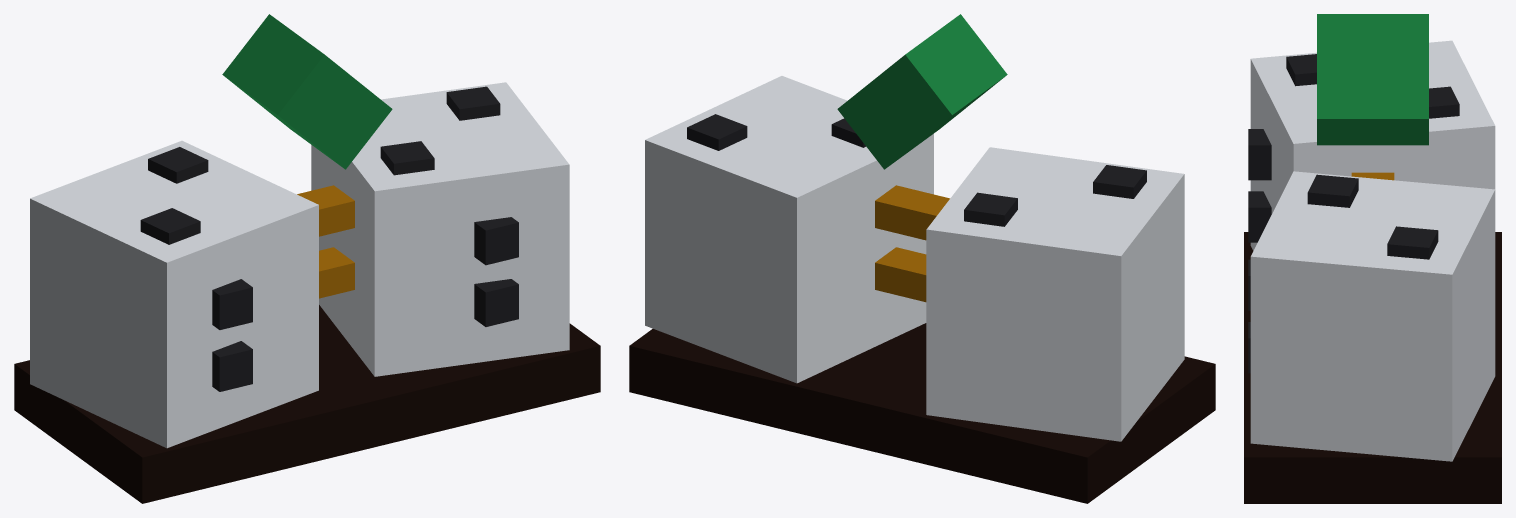
Rendered from BonusPar_low.fbx.
3 renders of one model, left to right at view 1: azimuth 30°, elevation 25°; view 2: azimuth 150°, elevation 25°; view 3: azimuth 270°, elevation 25°, orthographic.
Visible parts, largest first — view 1: BonusPar_low; view 2: BonusPar_low; view 3: BonusPar_low.
Boxes of the visible parts, left/top/right/bottom form: BonusPar_low: left=14, top=14, right=600, bottom=503; BonusPar_low: left=629, top=14, right=1215, bottom=503; BonusPar_low: left=1244, top=14, right=1501, bottom=503.
Size of the model in its own units: 64.47 by 47.78 by 30.
